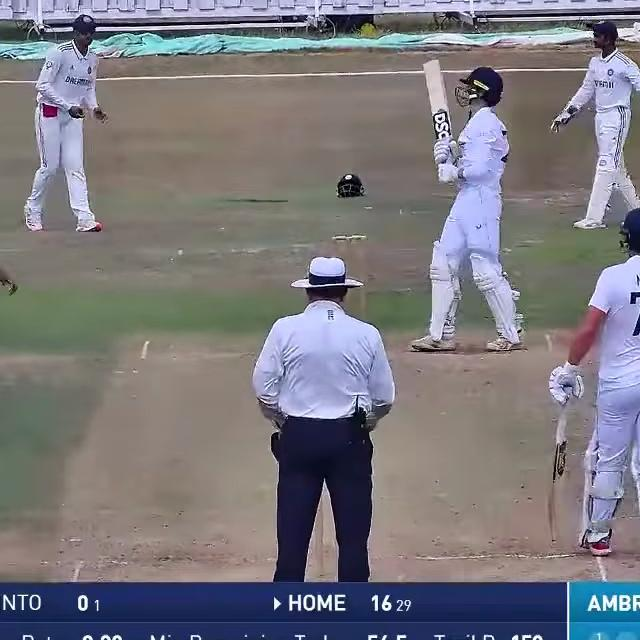umpire: (243, 245, 412, 584)
